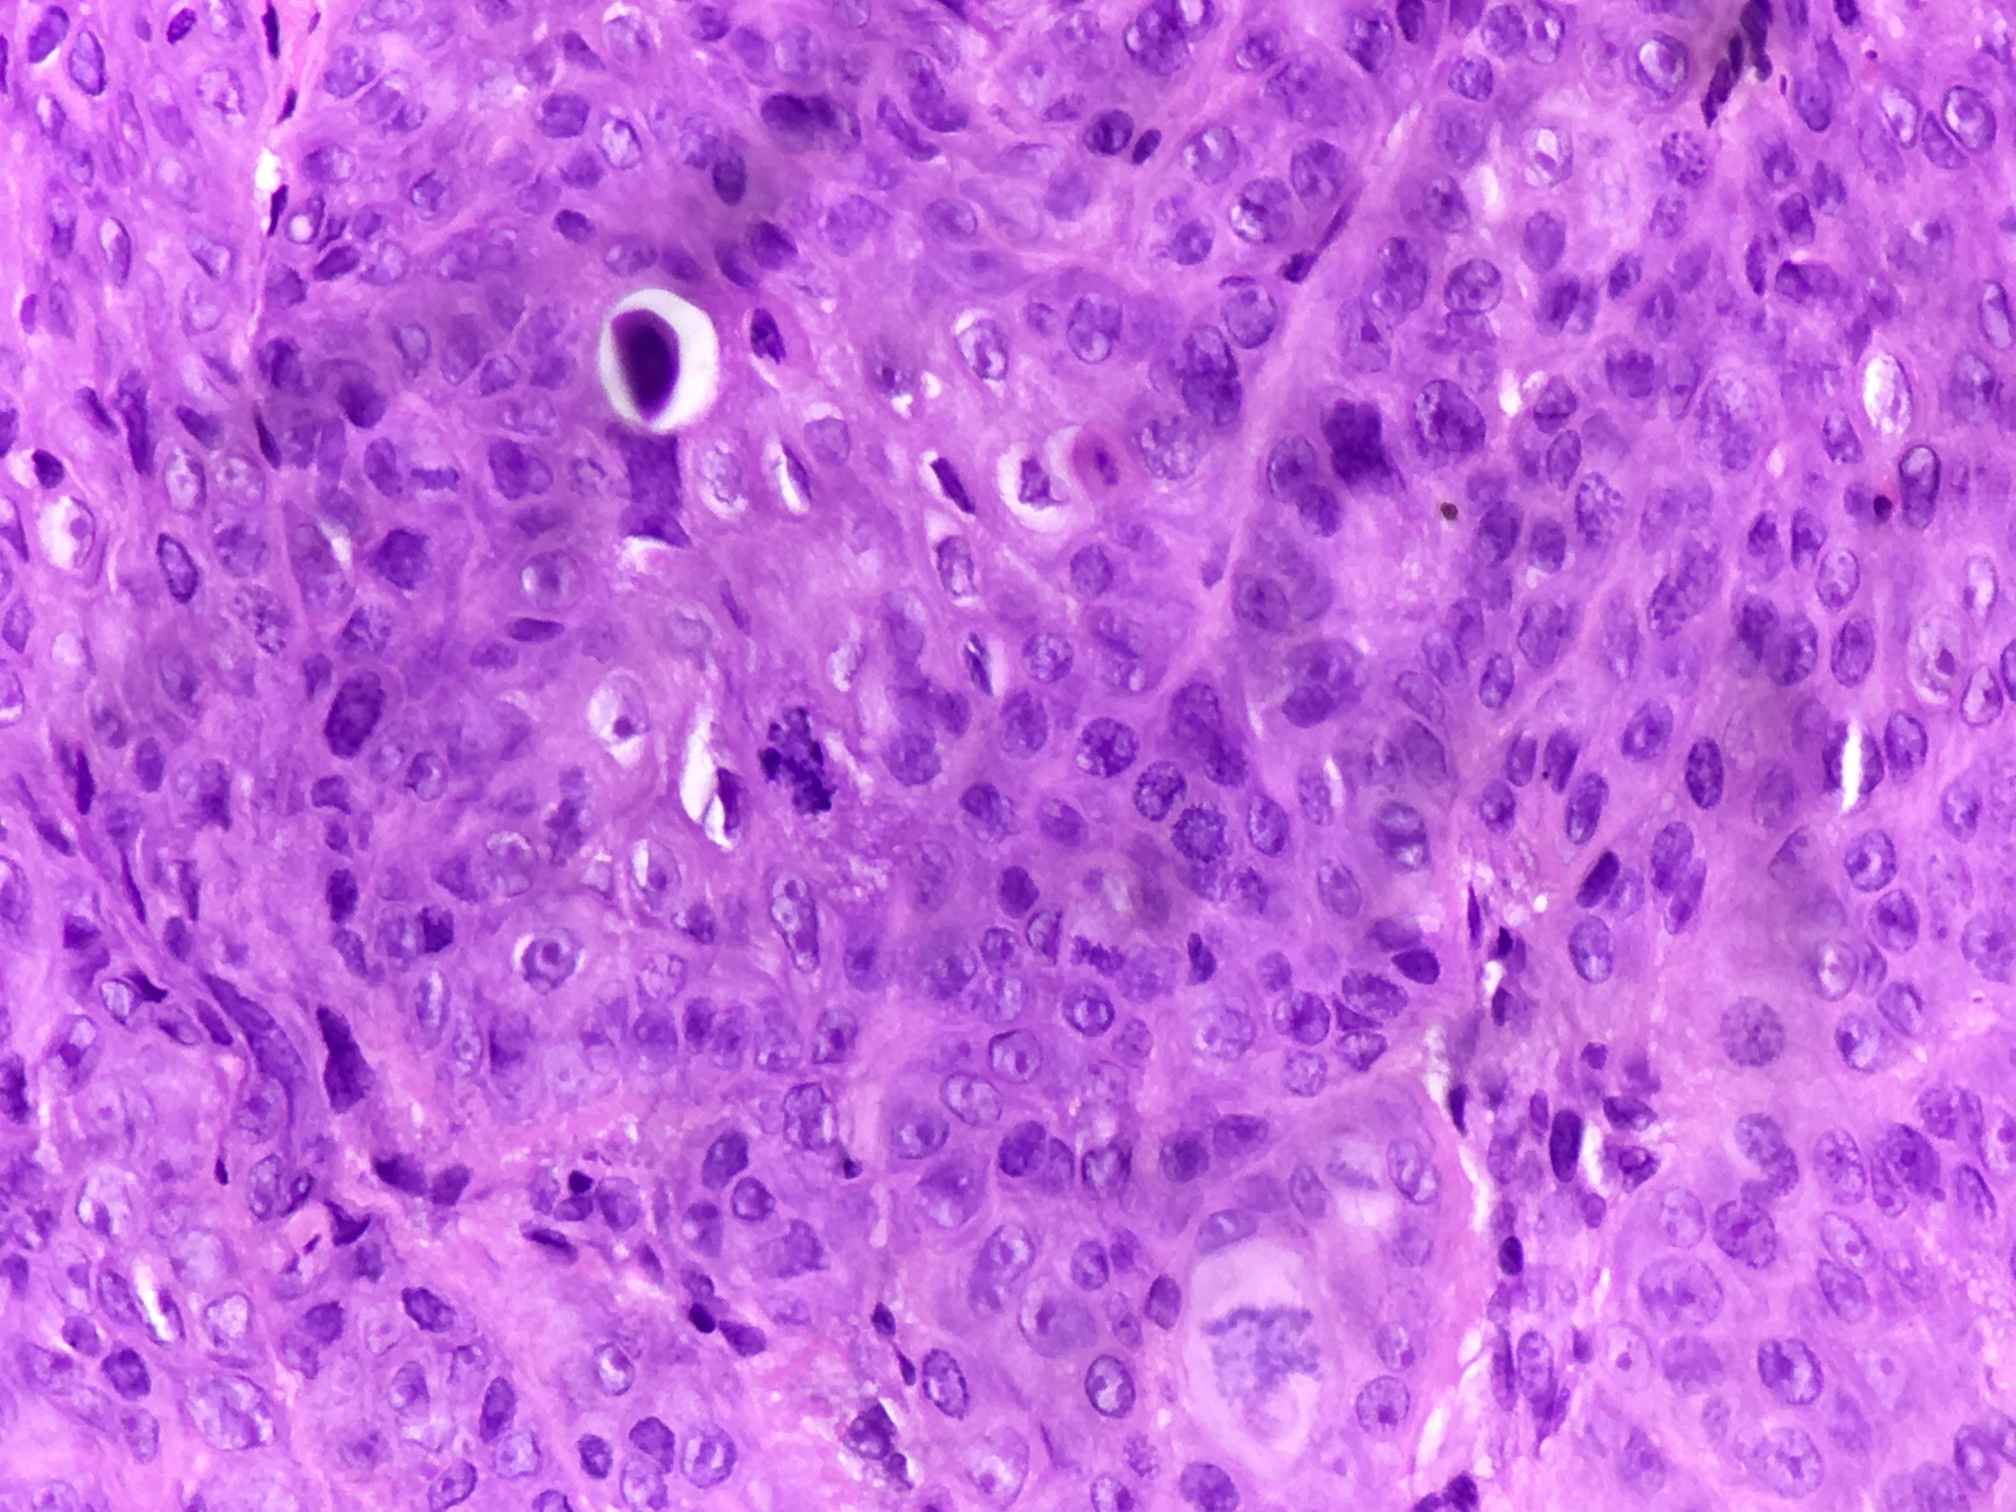mitotic: (733, 673, 897, 862)
